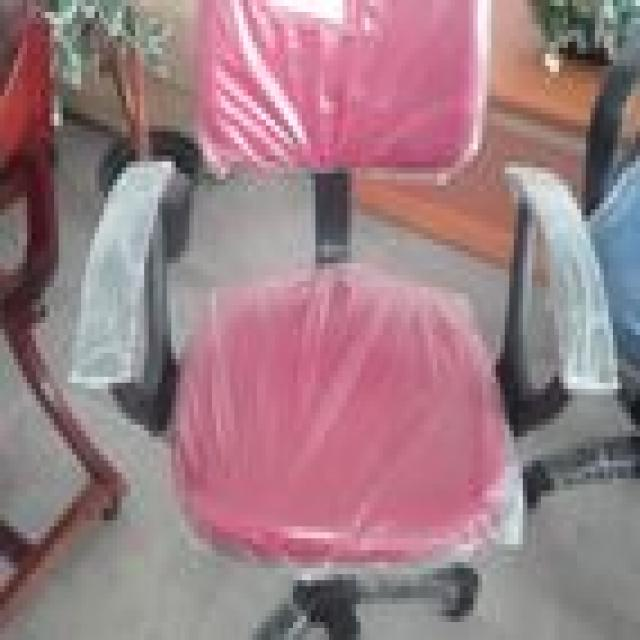others: (68, 6, 622, 640)
